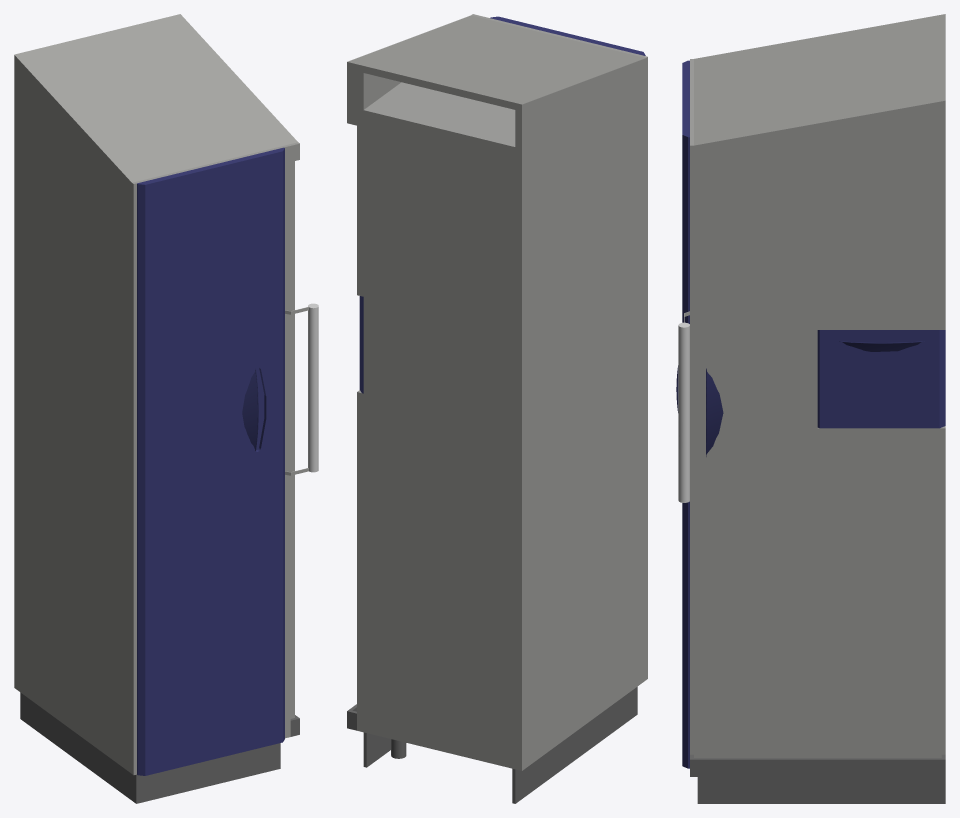
Rendered from armadio.glb.
3 views of the same model, side by side, from view 1: azimuth 30°, elevation 25°; view 2: azimuth 150°, elevation 25°; view 3: azimuth 270°, elevation 25° (orthographic). The views are drawn at different scales.
Visible parts, largest first — view 1: obj; view 2: obj; view 3: obj.
Boxes of the visible parts, bbox=[...] form: obj: bbox=[14, 14, 318, 803]; obj: bbox=[347, 14, 647, 803]; obj: bbox=[676, 14, 945, 803].
Bounding box in the file's own units: 0.5787 × 2.03 × 0.6951.
